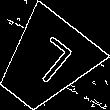L_SW: (16, 33, 74, 92)
